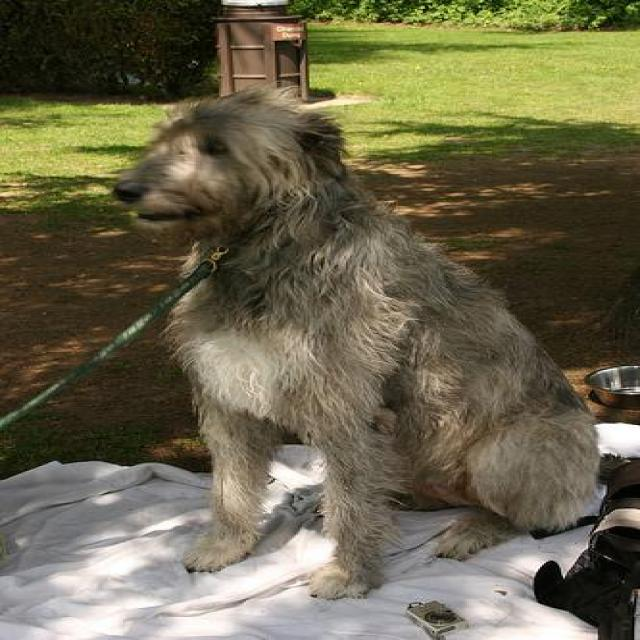irish_wolfhound: (106, 87, 607, 599)
